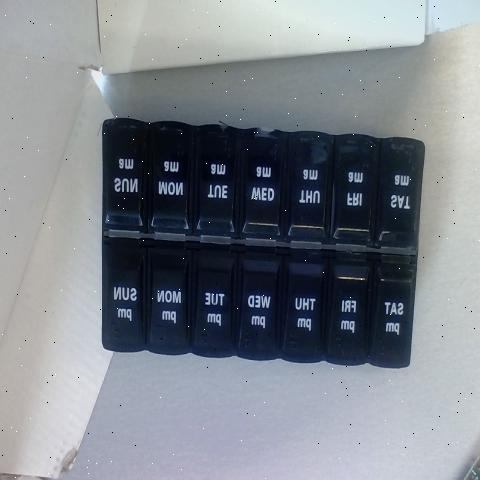FRI-am: (338, 138, 383, 253)
FRI-pm: (328, 255, 370, 364)
MON-am: (147, 123, 190, 239)
MON-pm: (149, 239, 191, 354)
SAT-am: (378, 148, 422, 241)
SAT-pm: (374, 264, 414, 370)
SUN-am: (107, 125, 146, 230)
SUN-pm: (104, 235, 146, 348)
THU-am: (290, 132, 334, 244)
THU-pm: (284, 253, 326, 364)
TUE-am: (191, 127, 235, 242)
TUE-pm: (193, 248, 238, 356)
WED-am: (241, 130, 288, 243)
WED-pm: (242, 252, 282, 359)
